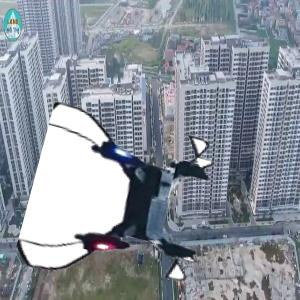drone: (33, 109, 217, 293)
